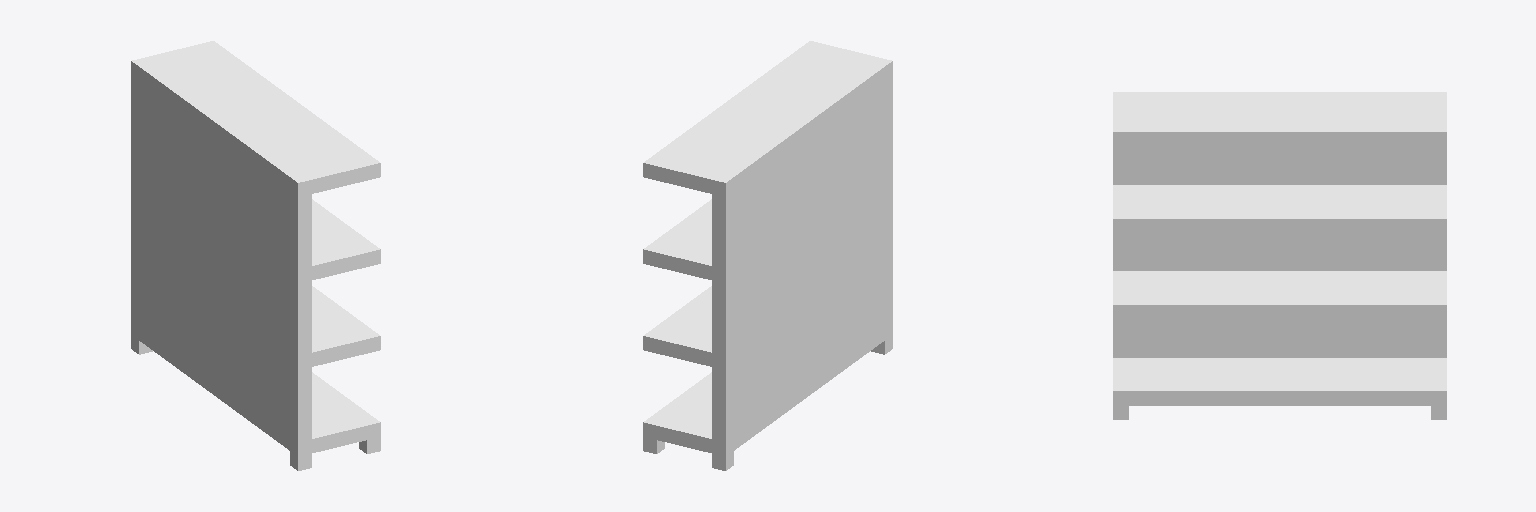
The model's file is store_rack_1.obj.
3 views of the same model, side by side, from view 1: azimuth 30°, elevation 25°; view 2: azimuth 150°, elevation 25°; view 3: azimuth 270°, elevation 25° (orthographic).
Visible parts, largest first — view 1: store_rack_1; view 2: store_rack_1; view 3: store_rack_1.
Boxes of the visible parts, <box> form: store_rack_1: <box>131,41,380,470</box>; store_rack_1: <box>643,41,892,470</box>; store_rack_1: <box>1113,92,1446,419</box>.
Size of the model in its own units: 6 by 20 by 21.